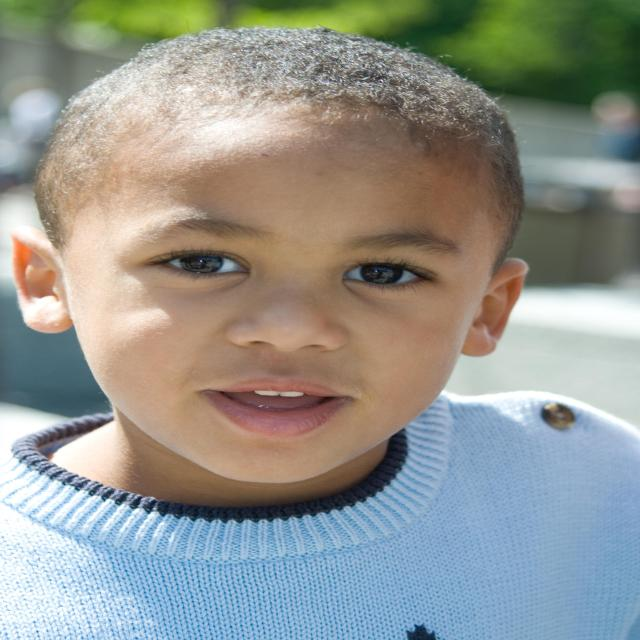no-glass: (142, 252, 446, 290)
